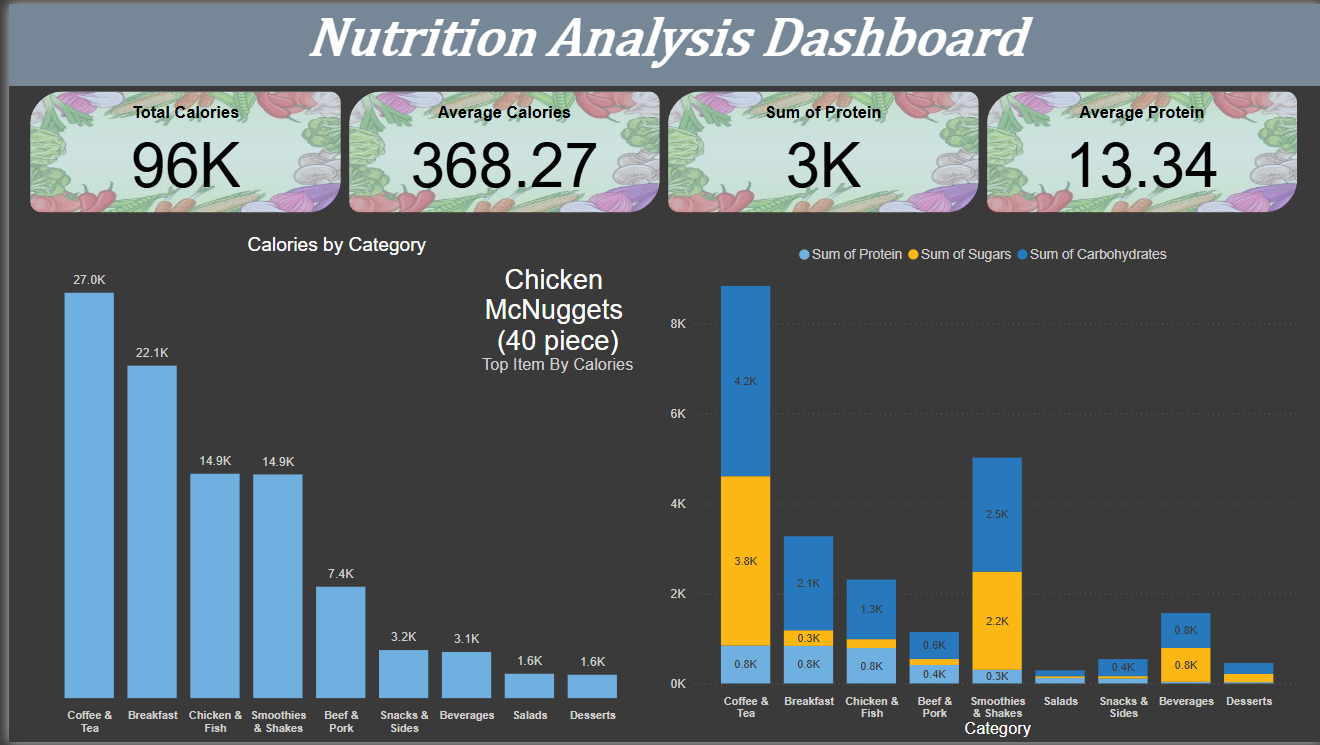

The page's visual inventory and layout, read from the dashboard file:
{"tool":"powerbi","page":{"name":"Page 1","canvas":[1280,720],"ordinal":0},"visuals":[{"type":"cardVisual","fields":{"Data":["menu.Total Calories","menu.Average Calories","Sum(menu.Protein)","menu.Average Protein"]},"box":[16,80,1248,128],"z":0},{"type":"columnChart","title":"Calories by Category","fields":{"Category":["menu.Category"],"Y":["Sum(menu.Calories)"]},"box":[16,224,608,496],"z":1000},{"type":"columnChart","fields":{"Category":["menu.Category"],"Y":["Sum(menu.Protein)","Sum(menu.Sugars)","Sum(menu.Carbohydrates)"]},"box":[640,224,624,496],"z":2000},{"type":"textbox","box":[0,0,1280,80],"z":3000},{"type":"card","fields":{"Values":["menu.TopItemByCalories"]},"box":[448,224,176,160],"z":4000}]}

Visuals, with their boxes in screenshot pixels (x1, y1, x2, y2), scaled from the page's 1280x720 canvas onto the 1320x745 screenshot:
cardVisual - menu.Total Calories x menu.Average Calories: 16, 83, 1304, 215
"Calories by Category" columnChart: 16, 232, 644, 744
columnChart - menu.Category x Sum(menu.Protein): 660, 232, 1304, 744
textbox: 0, 0, 1319, 83
card - menu.TopItemByCalories: 462, 232, 644, 397
